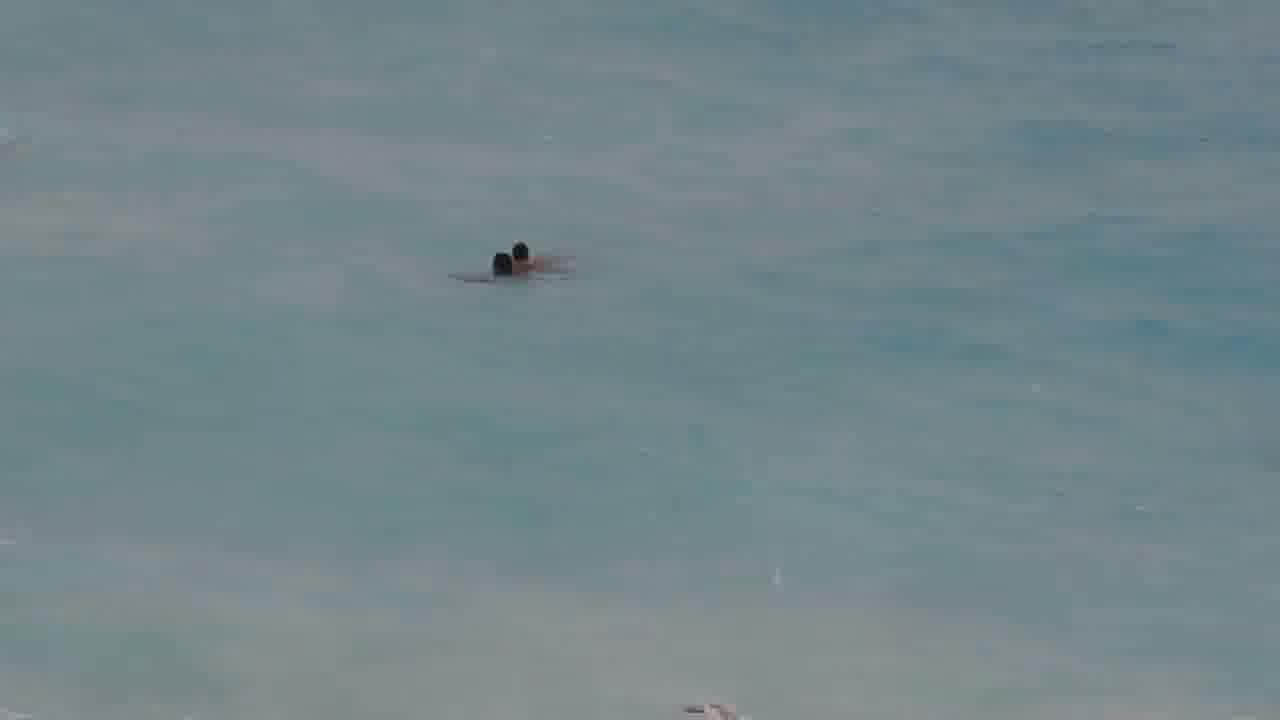human: (444, 251, 525, 296), (508, 232, 561, 271)
